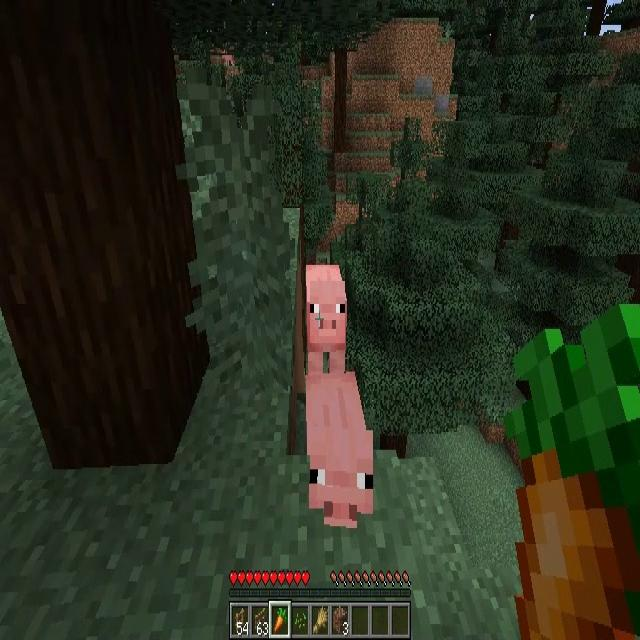pig: (308, 373, 374, 532), (306, 265, 346, 375)
